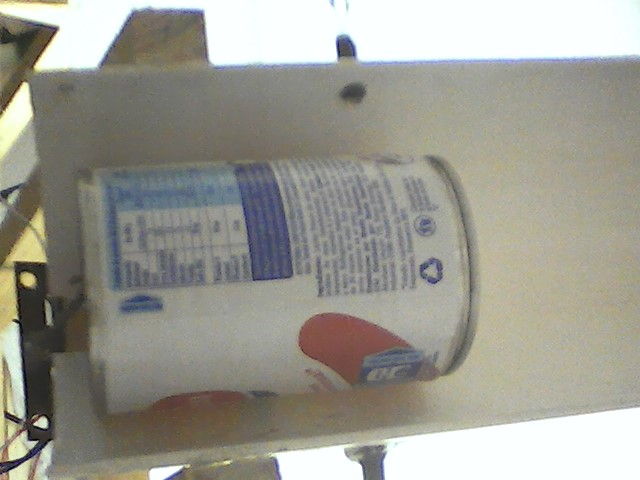lata: (66, 147, 480, 418)
